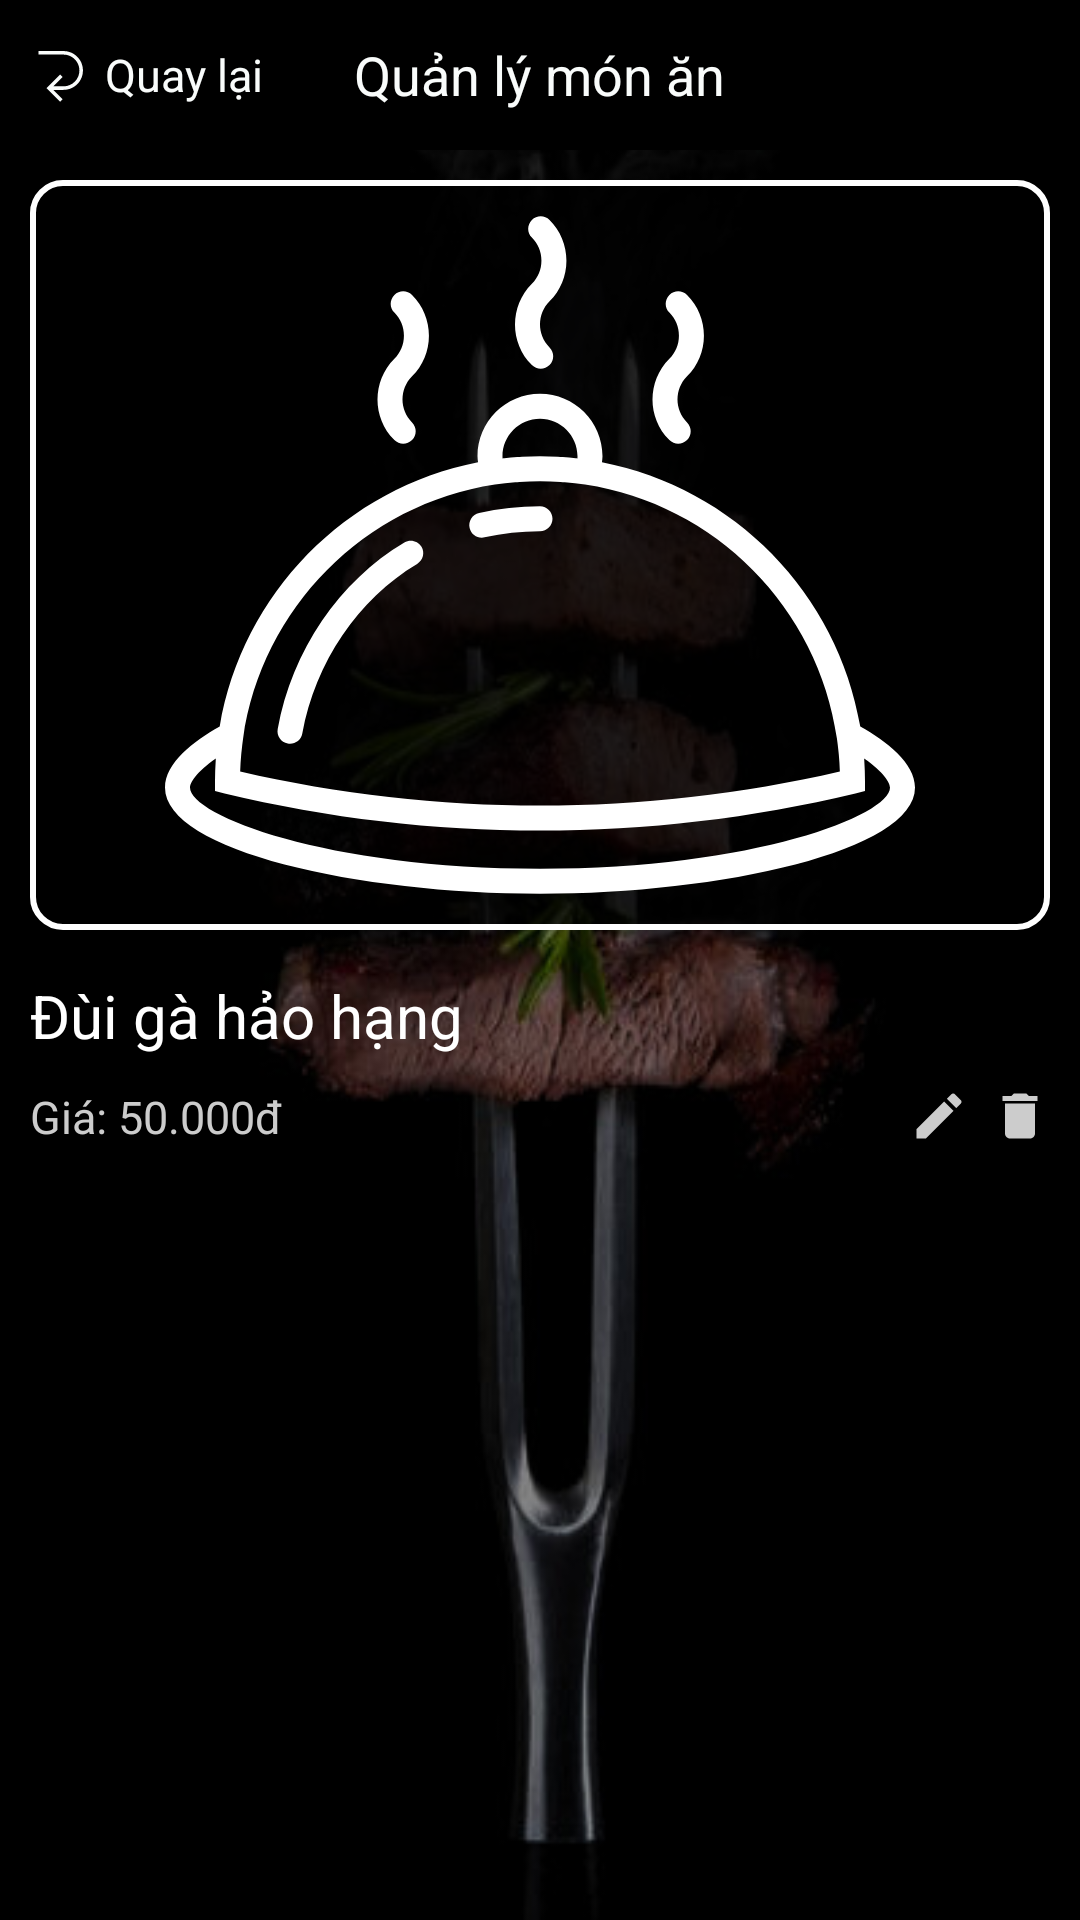

Where to tap for icons on this 1080w x 1920h app screen, as (x,y):
back left: (60,76)
delete: (1020,1116)
edit: (939,1116)
